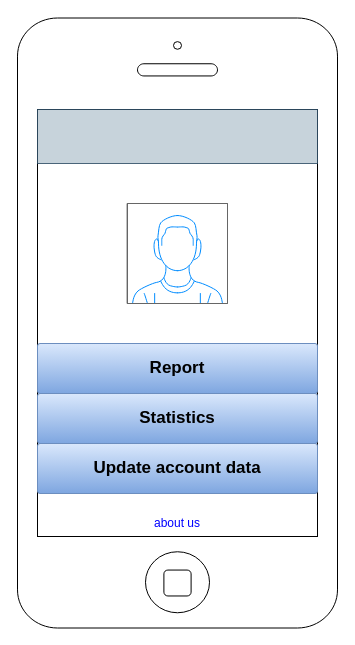
This 355x645 diagram has some shape labels left out. Here are the shapes that lost their labels. From the top down, the centre of each, then its label:
At point (177, 136): "Menu".
At point (177, 253): "Mario Rossi".
